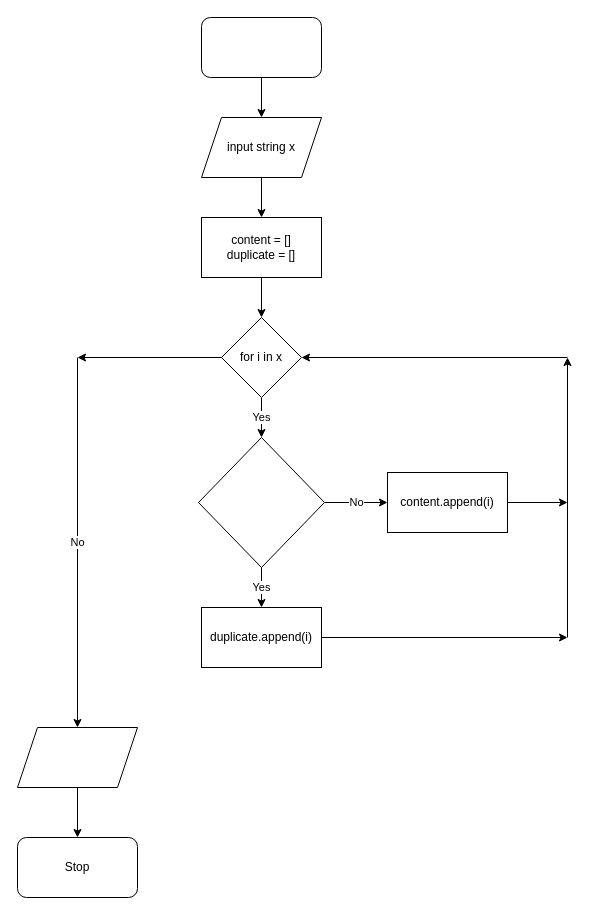
This 593x915 diagram has some shape labels left out. The shapes that lost their labels are listed below. From the top down, each one's box as (x1, y1, x2, y2) in pixels, then its label:
(200, 16, 322, 78): Start
(198, 436, 324, 568): if i in content and i not in duplicate
(16, 726, 138, 788): print duplicate
